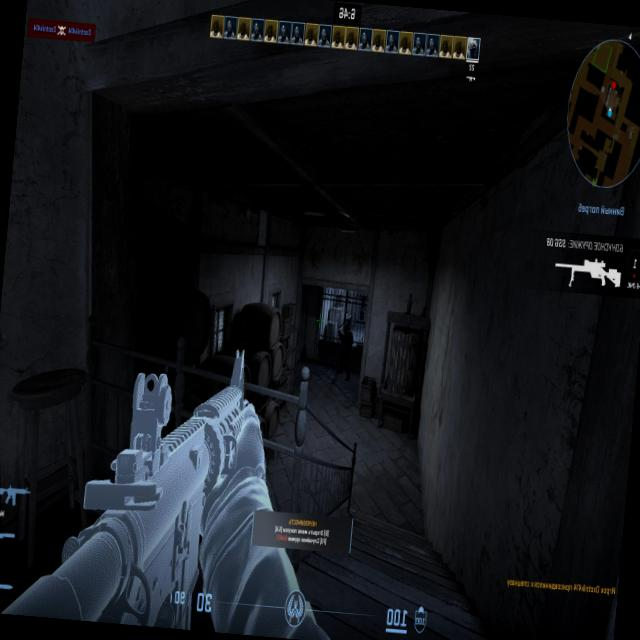CT: (340, 322, 352, 374)
CT_heat: (344, 325, 350, 337)
